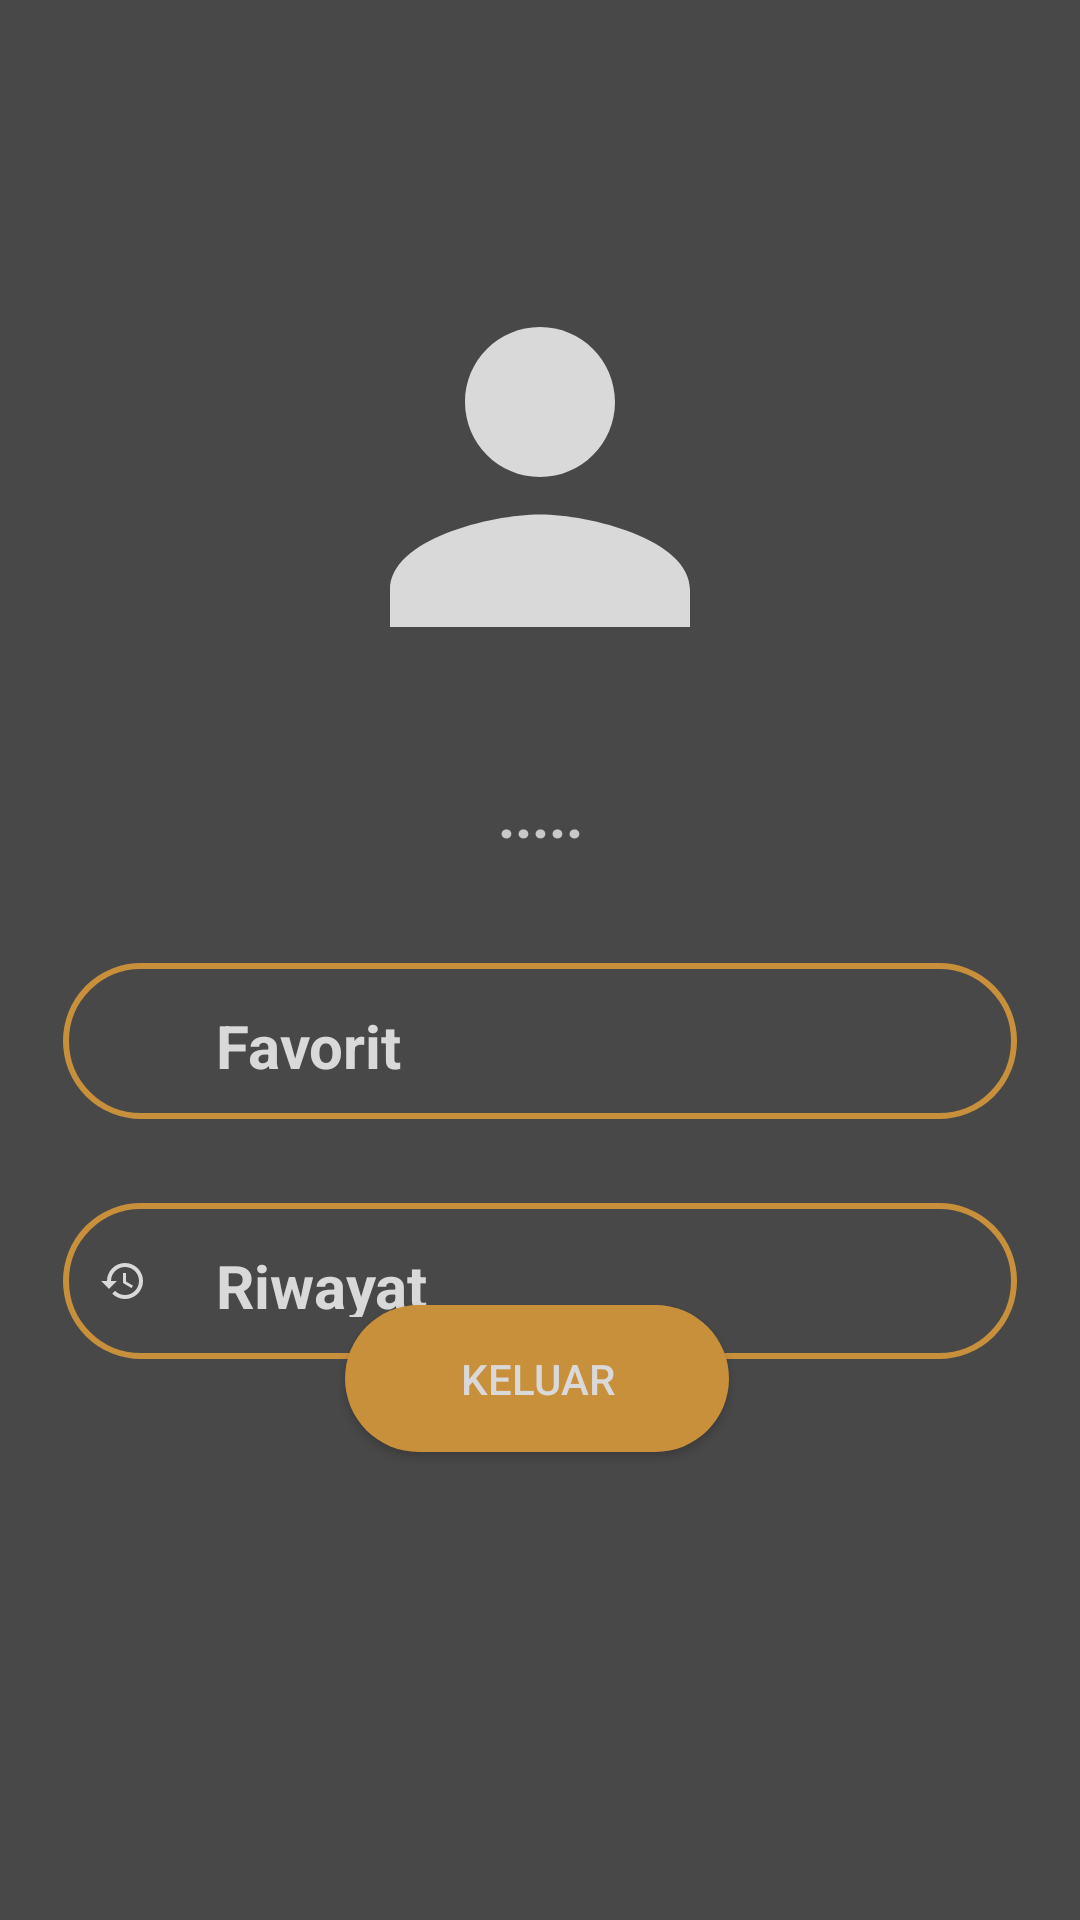

Named icons in this screenshot (1080 × 1920) and their centers, [x,y]:
akun: [540,477]
history: [122,1281]
